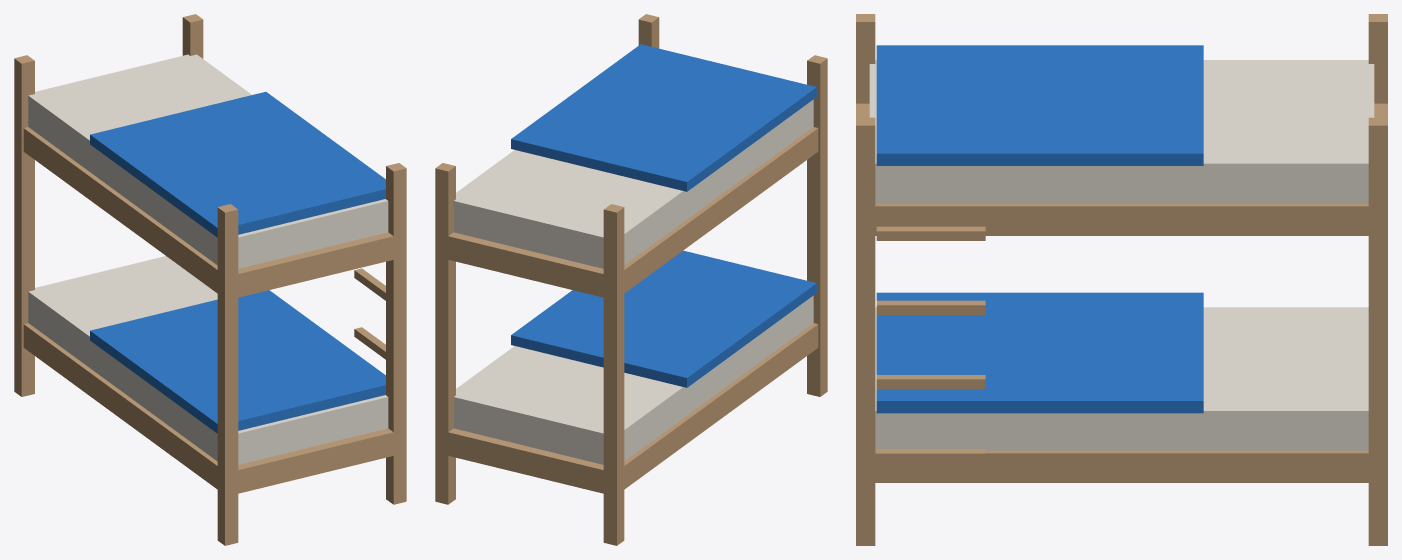
File: bunkBed.glb
3 renders of one model, left to right at view 1: azimuth 30°, elevation 25°; view 2: azimuth 150°, elevation 25°; view 3: azimuth 270°, elevation 25°, orthographic. The views are drawn at different scales.
Parts seen in each view (by area): view 1: bunkBed; view 2: bunkBed; view 3: bunkBed.
Part boxes in pixels (x1,y1,x2,y2): bunkBed: [14, 14, 406, 545]; bunkBed: [435, 14, 827, 545]; bunkBed: [856, 14, 1387, 545].
Size of the model in its own units: 1 by 1.7 by 1.95.
